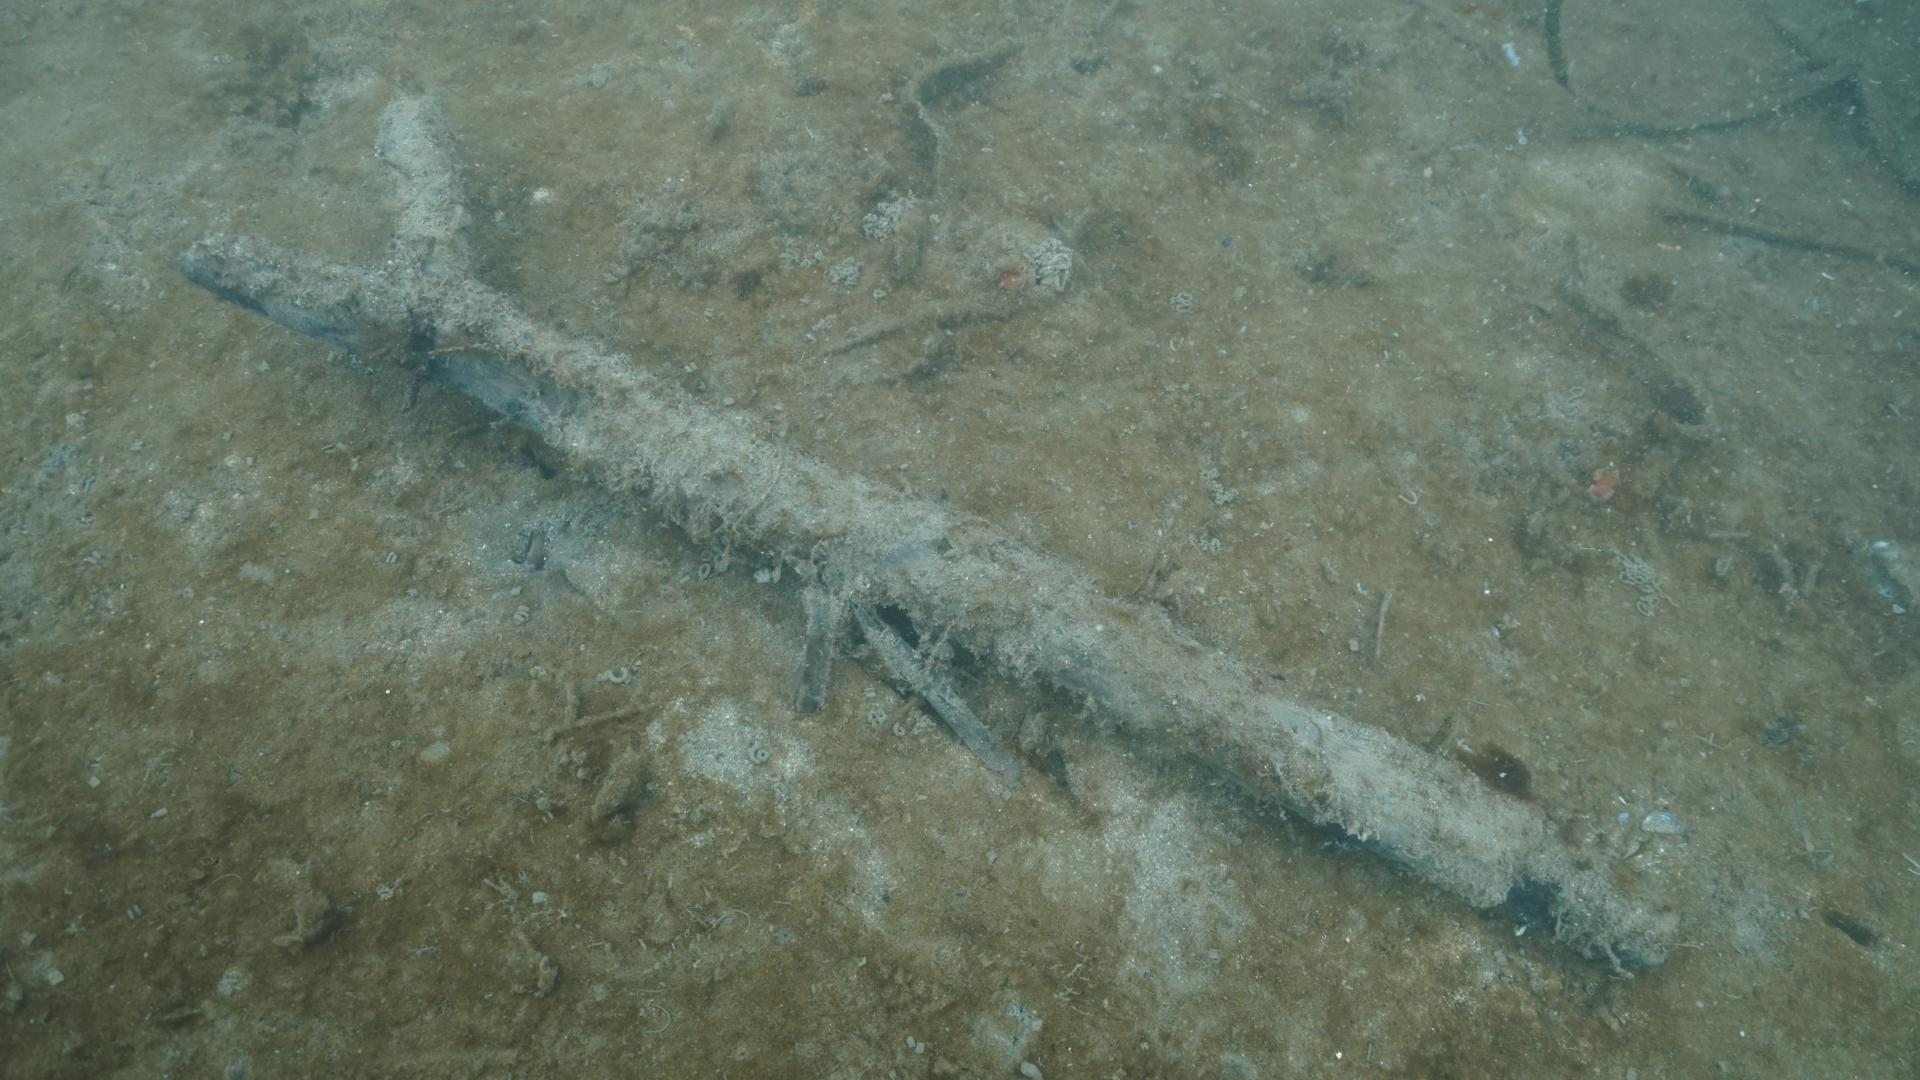wood: (174, 90, 1680, 975)
